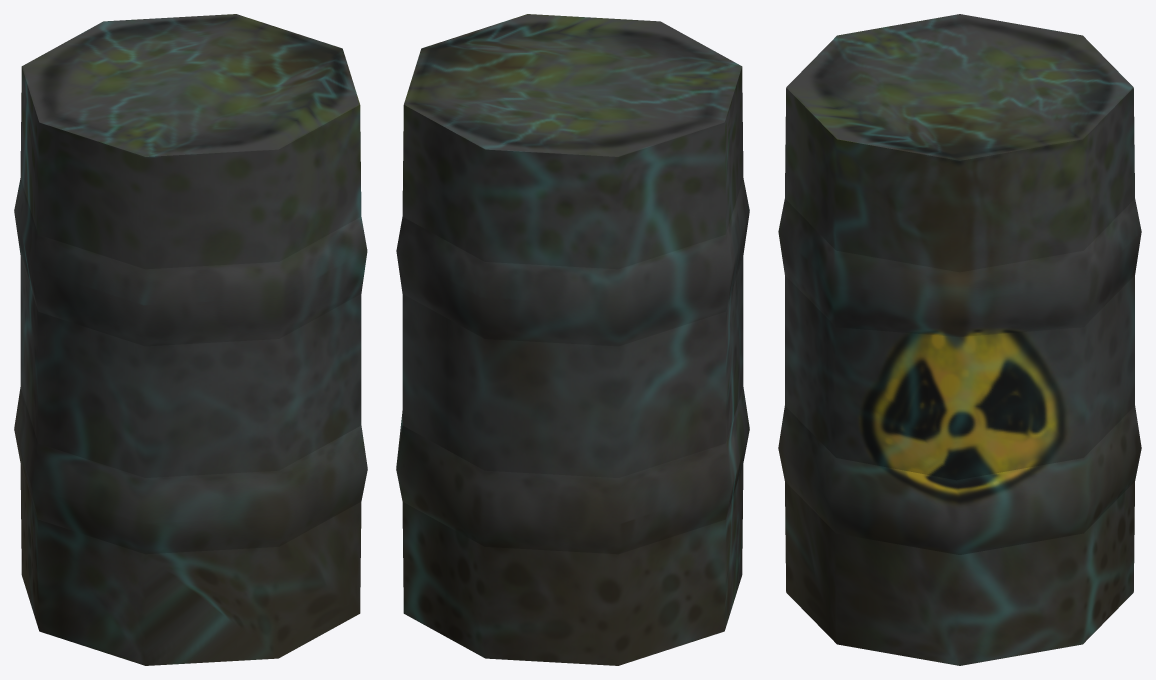
The model's file is oildrum.glb.
3 renders of one model, left to right at view 1: azimuth 30°, elevation 25°; view 2: azimuth 150°, elevation 25°; view 3: azimuth 270°, elevation 25°, orthographic.
Visible parts, largest first — view 1: oilDrumobj; view 2: oilDrumobj; view 3: oilDrumobj.
Part boxes in pixels (x1,y1,x2,y2): oilDrumobj: (14,14,367,665); oilDrumobj: (396,14,749,665); oilDrumobj: (778,14,1141,665).
Bounding box in the file's own units: 1.01 × 1.51 × 0.9816.
Materials: 1 (1 with a texture image).
